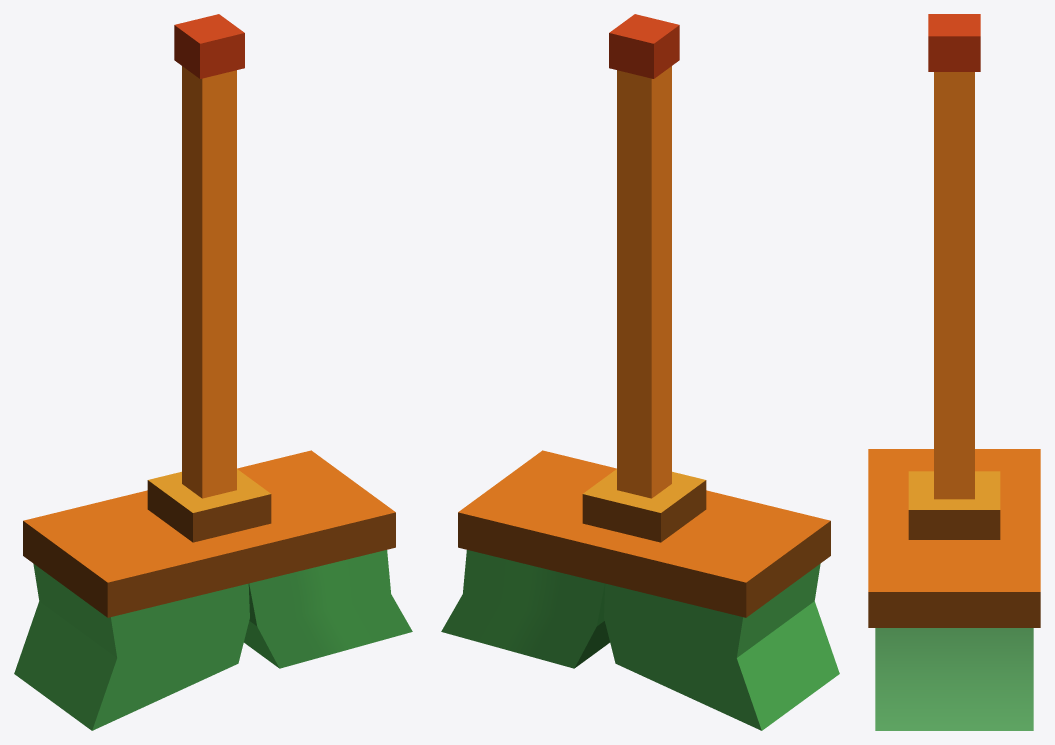
File: Cleaner Mop.fbx
3 views of the same model, side by side, from view 1: azimuth 30°, elevation 25°; view 2: azimuth 150°, elevation 25°; view 3: azimuth 270°, elevation 25° (orthographic).
Visible parts, largest first — view 1: Cleaner Mop; view 2: Cleaner Mop; view 3: Cleaner Mop.
Part boxes in pixels (x1=…): Cleaner Mop: x1=14, y1=14, x2=412, y2=730; Cleaner Mop: x1=441, y1=14, x2=839, y2=730; Cleaner Mop: x1=868, y1=14, x2=1040, y2=730.
Size of the model in its own units: 0.4953 by 0.9374 by 0.2264.
